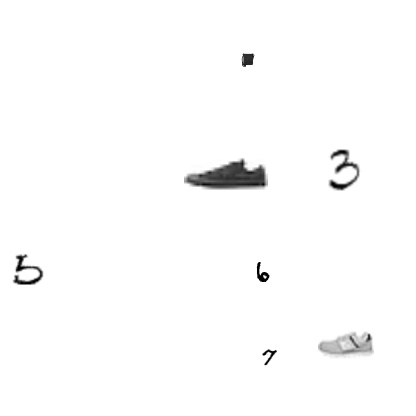3: (315, 142, 371, 198)
5: (4, 250, 46, 292)
6: (247, 260, 275, 288)
7: (258, 344, 280, 366)
Bag: (241, 53, 255, 67)
Sneaker: (184, 132, 268, 216), (318, 316, 374, 372)
